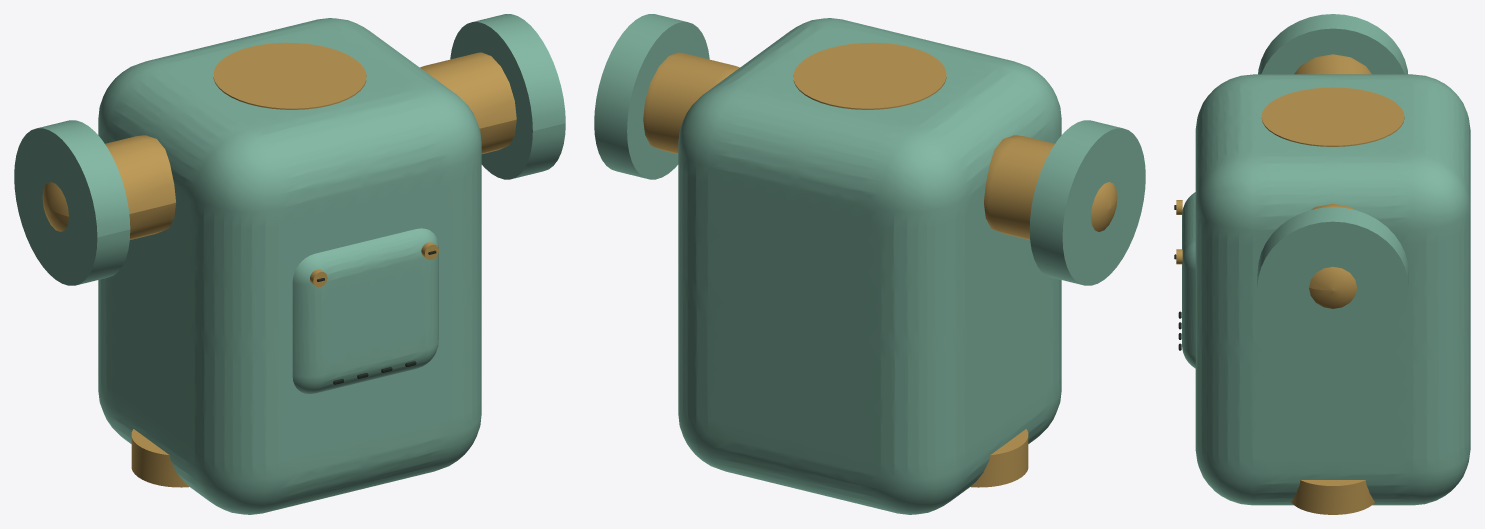
The model's file is deadeye-torso-0.glb.
3 renders of one model, left to right at view 1: azimuth 30°, elevation 25°; view 2: azimuth 150°, elevation 25°; view 3: azimuth 270°, elevation 25°, orthographic. The views are drawn at different scales.
Parts seen in each view (by area): view 1: torso_clay, torso_paint, torso_hardware; view 2: torso_clay, torso_paint, torso_hardware; view 3: torso_clay, torso_paint, torso_hardware.
Part boxes in pixels (x1,y1,x2,y2): torso_clay: [98, 18, 481, 514]; torso_paint: [14, 14, 565, 285]; torso_hardware: [42, 42, 516, 487]; torso_clay: [678, 18, 1061, 514]; torso_paint: [594, 14, 1145, 285]; torso_hardware: [643, 42, 1117, 487]; torso_clay: [1182, 74, 1470, 505]; torso_paint: [1257, 14, 1408, 353]; torso_hardware: [1176, 54, 1404, 514].
Size of the model in its own units: 1.62 by 1.22 by 0.9478.
